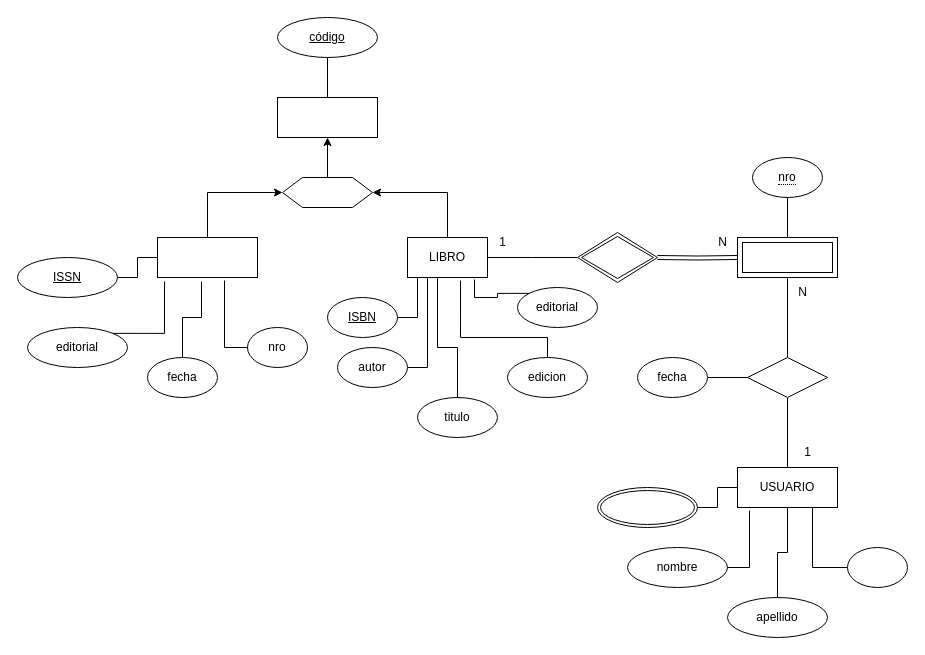
The diagram is 925 pixels wide and 655 high, and some of its shapes have lost their labels. The shapes that lost their labels are listed below. From the top down, each one's centre as x and y in pixels, then its label:
At point 327,117: "RECURSO".
At point 327,192: "Tipo".
At point 207,257: "REVISTA".
At point 617,257: "Tiene".
At point 787,257: "EJEMPLAR".
At point 787,377: "Prestado a".
At point 647,507: "contacto".
At point 877,567: "id".
